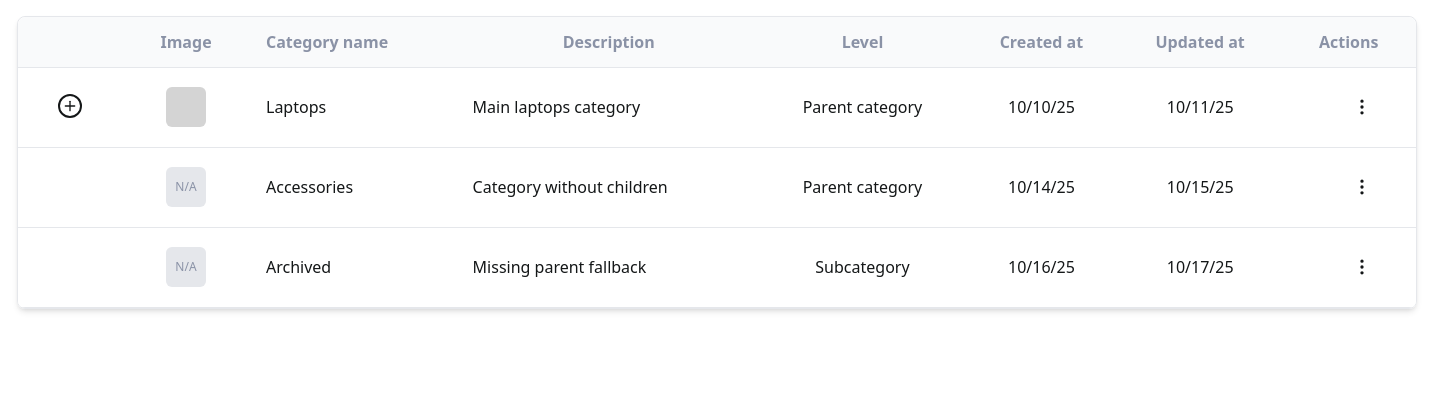
Test: UI Component: TableCategories › should expand and collapse subcategories on toggle click
Click the button named "Expand Laptops" at (70,106), box [58, 94, 82, 118]
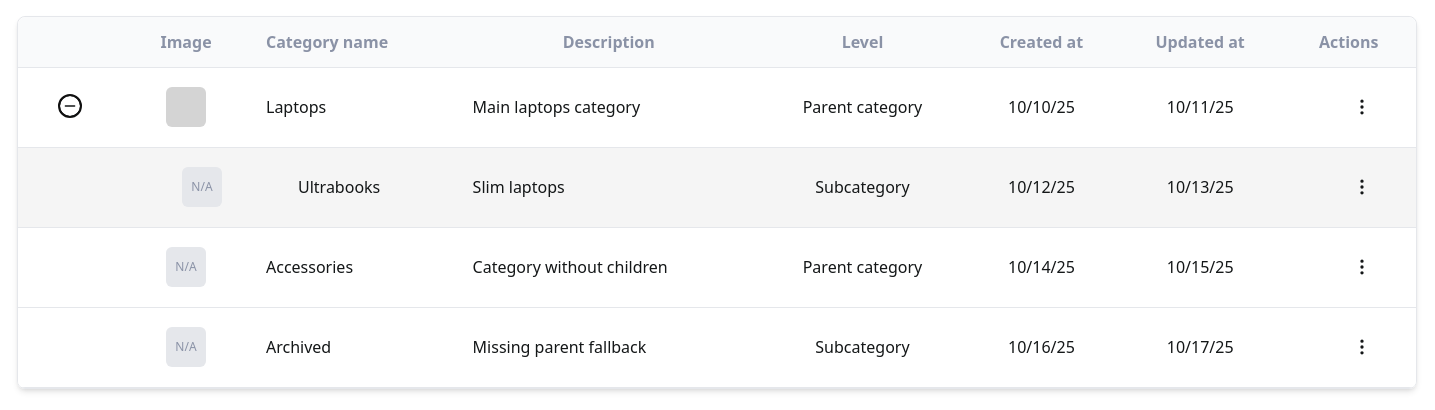
Expected: the text "Ultrabooks" is shown, [298, 176, 380, 198]
Expected: the text "Slim laptops" is shown, [457, 147, 761, 227]
Expected: the text "Subcategory" in the row of "Ultrabooks" is shown, [815, 176, 910, 198]
Click the button named "Collapse Laptops" at (70,106), box [58, 94, 82, 118]
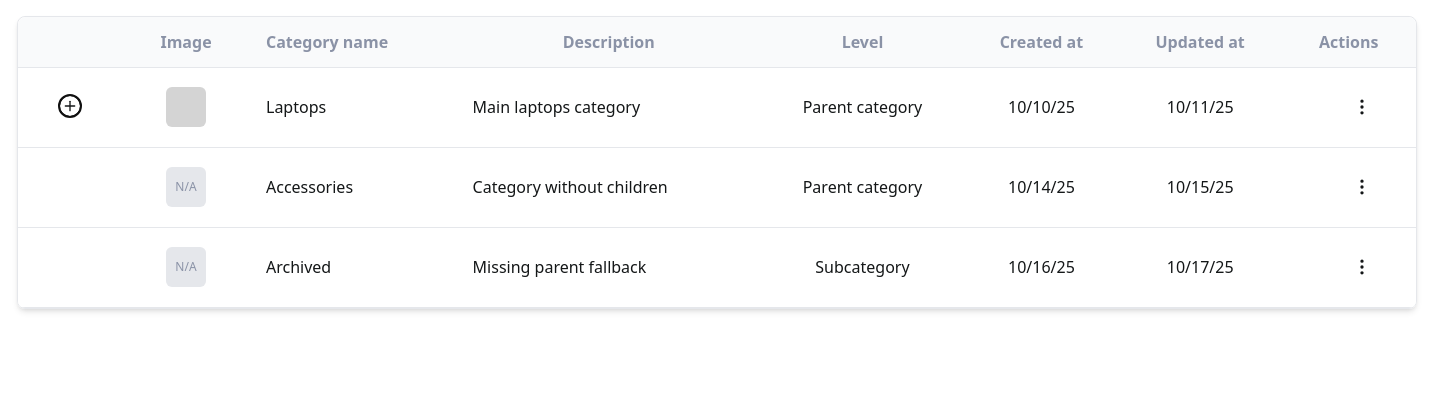
Expected: the text "Ultrabooks" is gone
